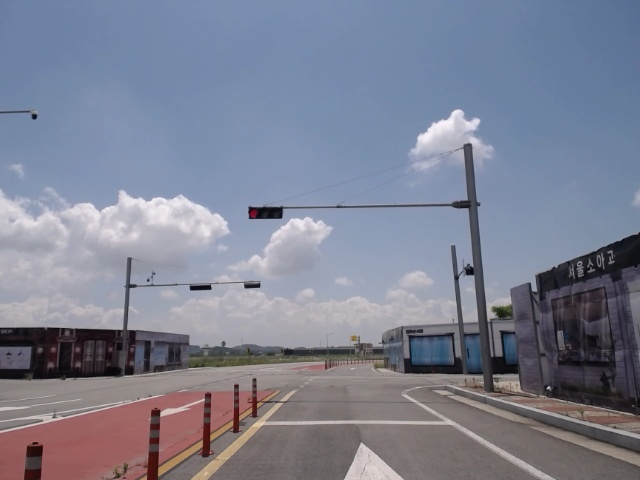red_3: (247, 205, 284, 218)
